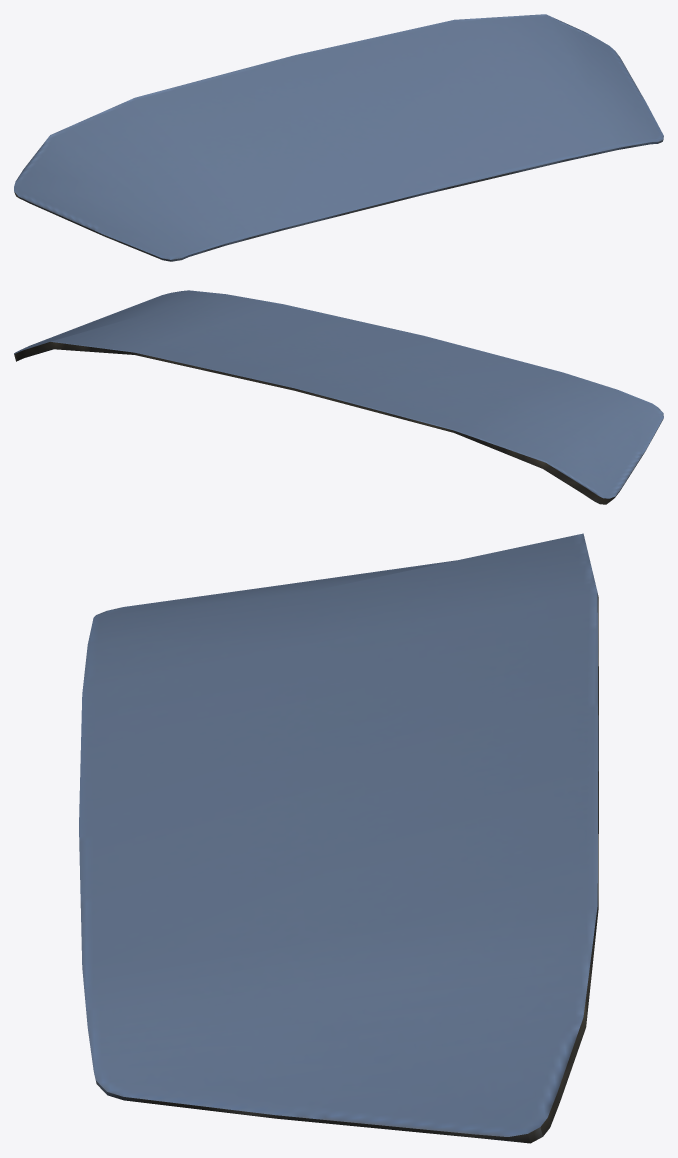
Rendered from C70Windshield_WorldItem.fbx.
The picture shows the model from 3 angles, top to bottom: view 1: azimuth 30°, elevation 25°; view 2: azimuth 150°, elevation 25°; view 3: azimuth 270°, elevation 25°; orthographic projection. The views are drawn at different scales.
Visible parts, largest first — view 1: Windshield_obj; view 2: Windshield_obj; view 3: Windshield_obj.
Boxes of the visible parts, x1=… form: Windshield_obj: x1=14, y1=14, x2=663, y2=261; Windshield_obj: x1=14, y1=290, x2=663, y2=504; Windshield_obj: x1=79, y1=533, x2=598, y2=1143.
Bounding box in the file's own units: 2.49 × 0.227 × 0.9379.
